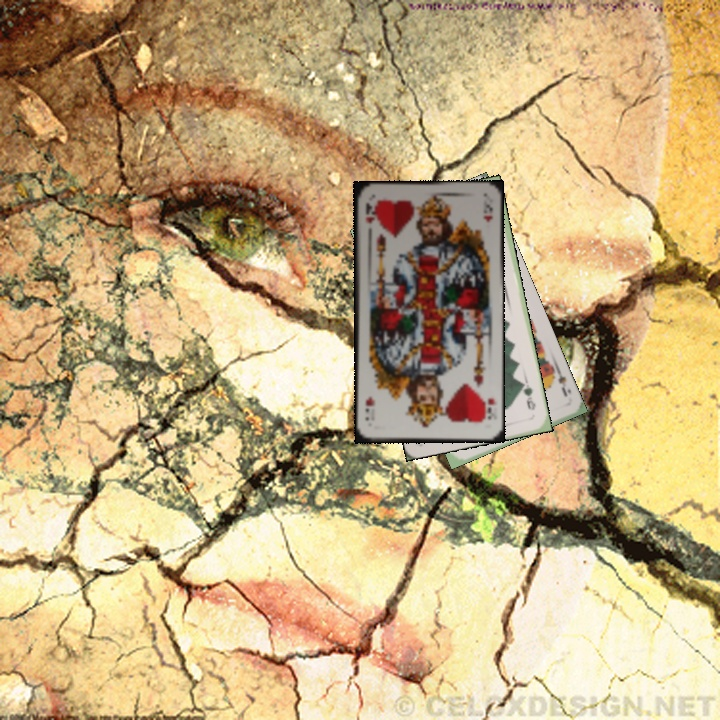G9: (517, 377, 538, 413)
HK: (479, 393, 498, 425), (361, 198, 377, 226)
S9: (546, 363, 570, 400)
